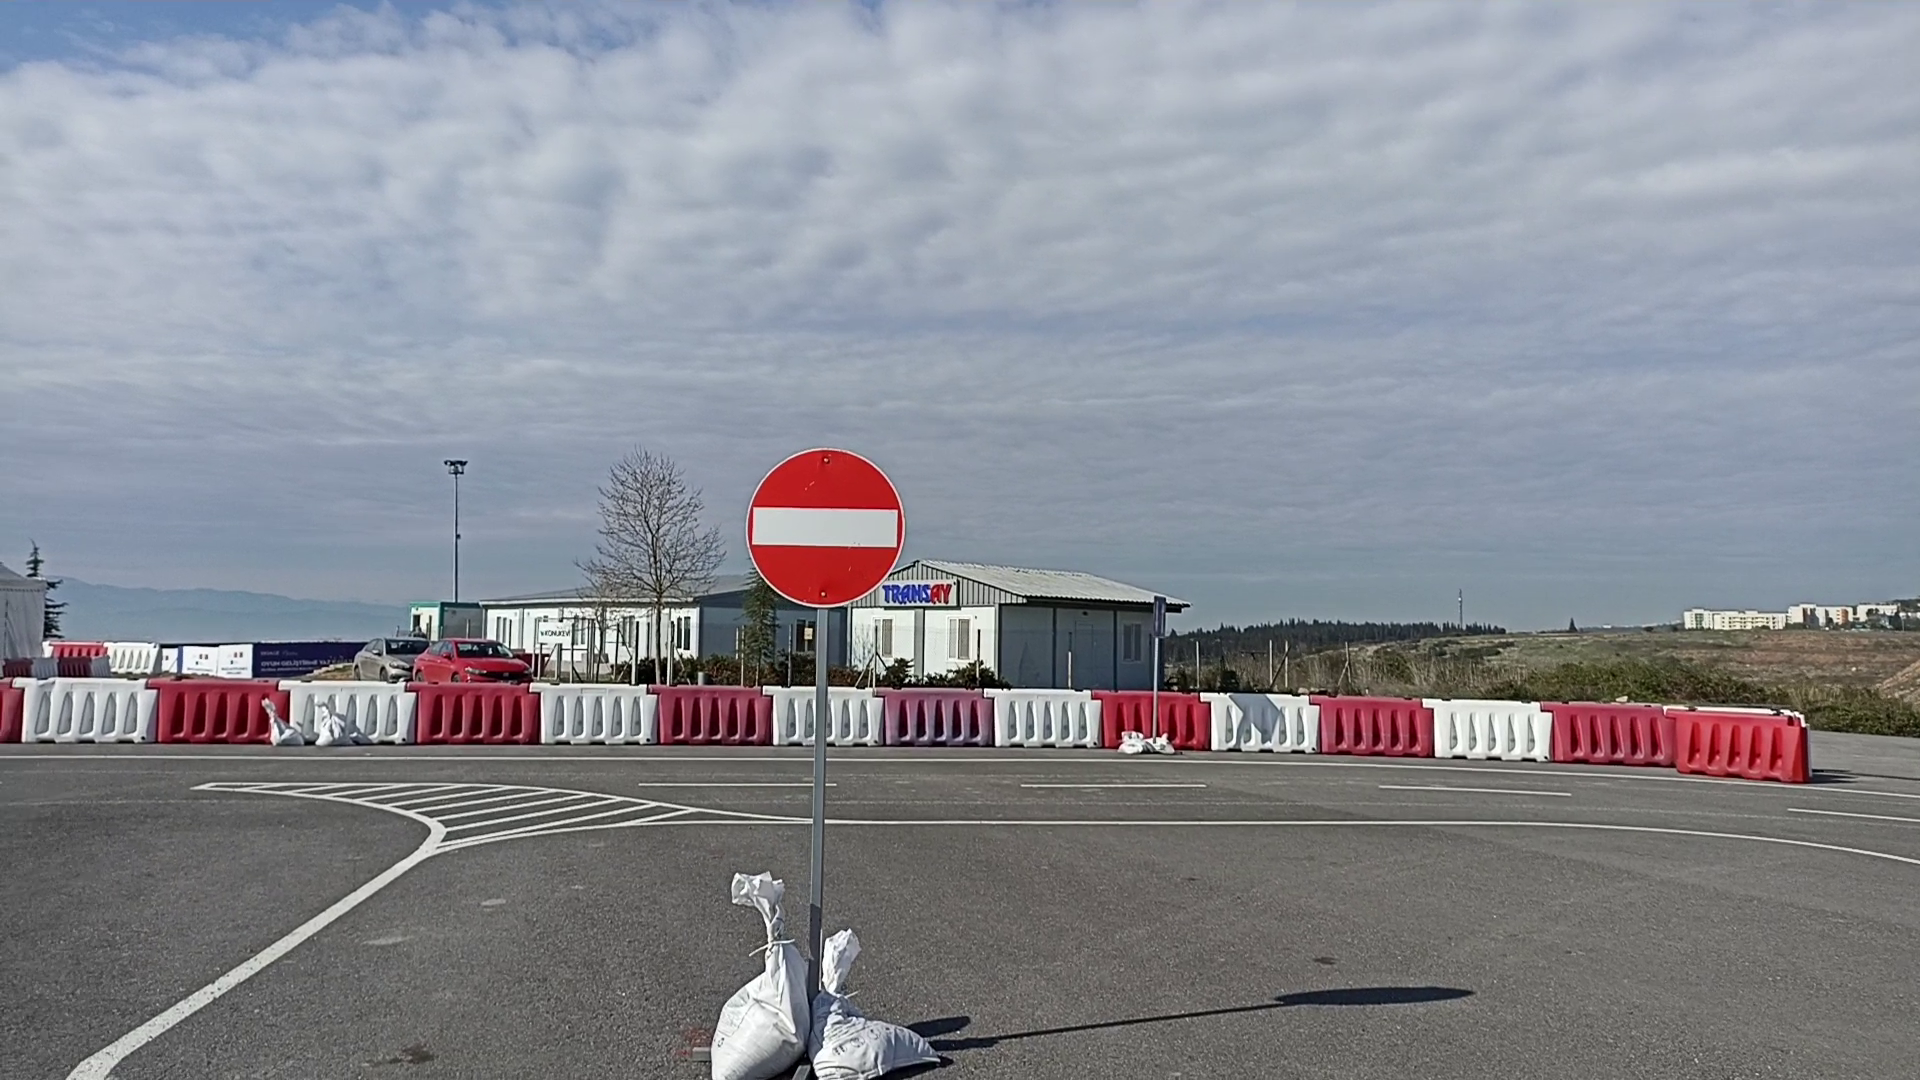noentryway: (742, 444, 909, 611)
